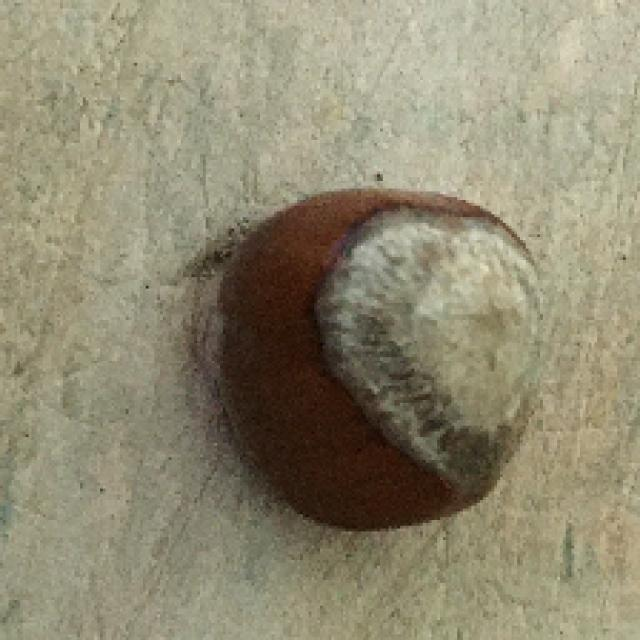qualityHazelnut: (213, 185, 536, 535)
